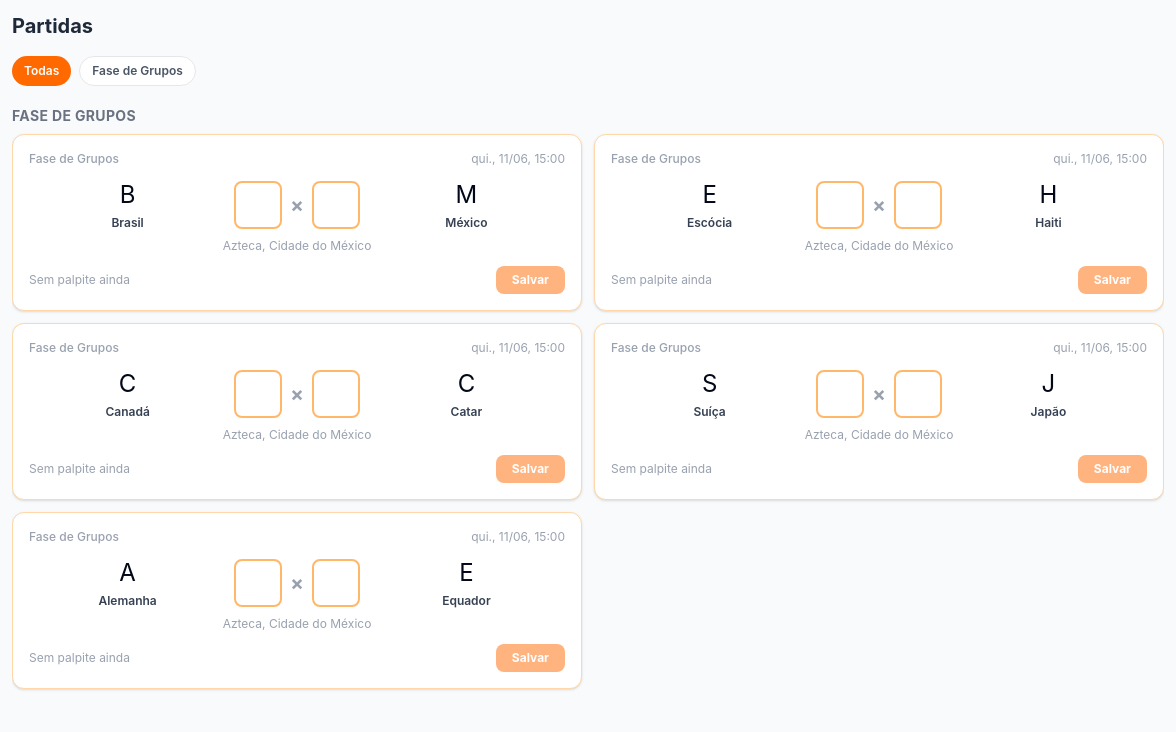
Test case: MatchesPage › shows group-by-chave toggle when group phase is selected
Expected: the text "Brasil" is shown, [111, 215, 144, 230]
Click the button "Fase de Grupos" at [138, 71], box [79, 56, 196, 86]
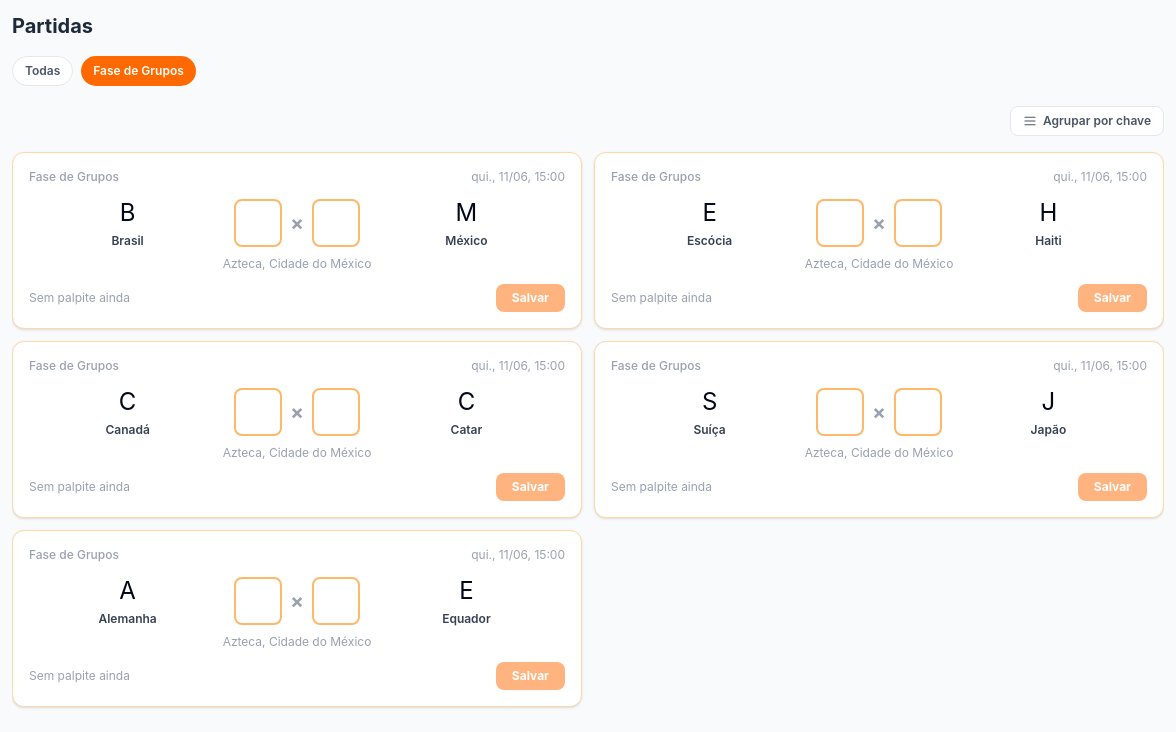
Expected: the button "Agrupar por chave" is shown, [1010, 106, 1164, 136]
